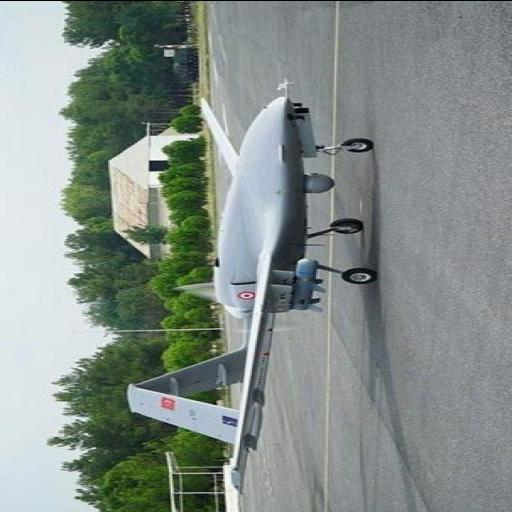uav: (116, 50, 382, 464)
